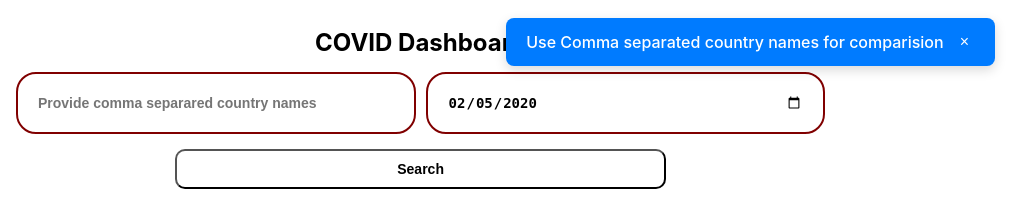
Scenario: Welcome Component › shows error toast for invalid country
The image size is (1015, 206).
In the field with placeholder "Provide comma separared country names": (216,103) [16, 72, 416, 134], type "InvalidCountry"
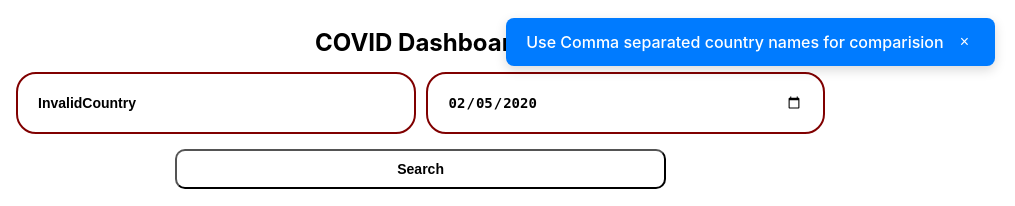
Click the button "Search": (421,169) [175, 149, 666, 189]
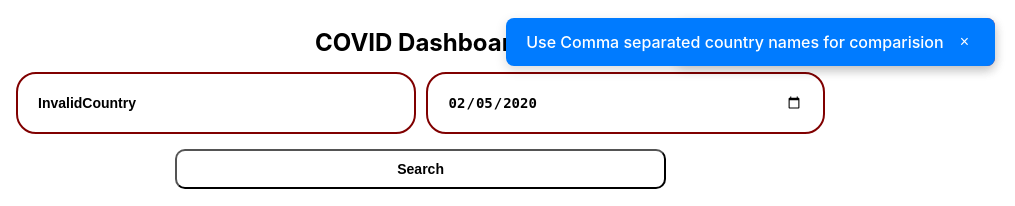
Expected: the text "Country:- InvalidCountry, Invalid ×" is shown, [676, 18, 995, 66]
